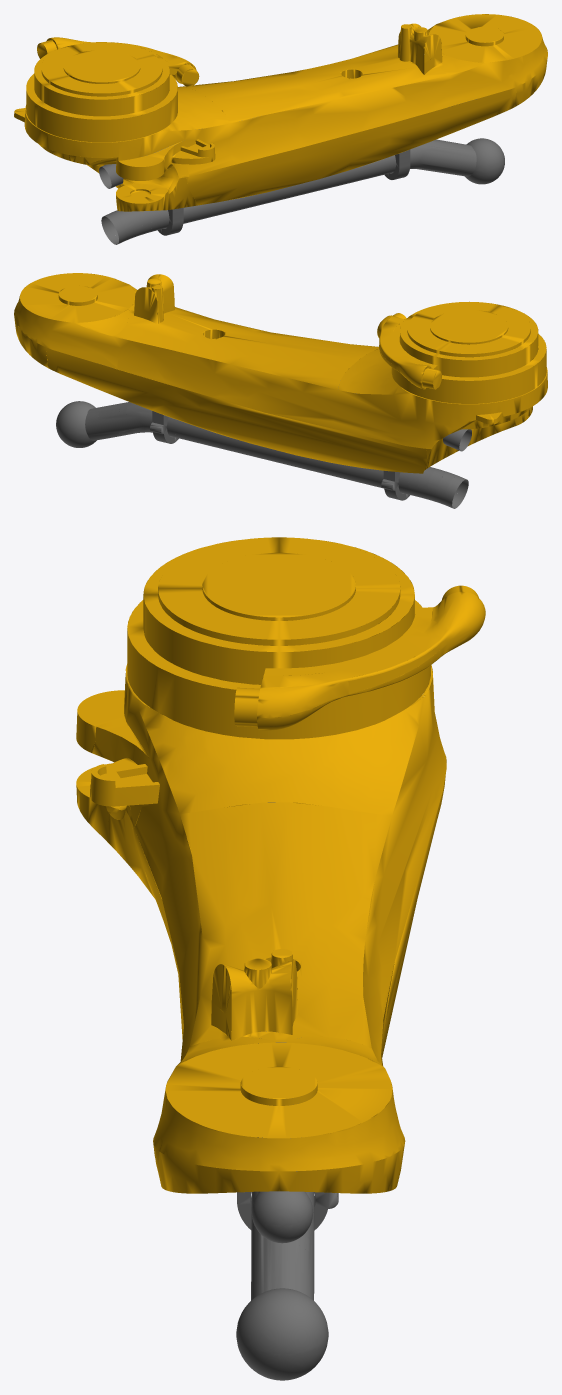
3 renders of one model, top to bottom at view 1: azimuth 30°, elevation 25°; view 2: azimuth 150°, elevation 25°; view 3: azimuth 270°, elevation 25°, orthographic. The views are drawn at different scales.
Visible parts, largest first — view 1: KR270_Link2; view 2: KR270_Link2; view 3: KR270_Link2.
Boxes of the visible parts, left/top/right/bottom form: KR270_Link2: left=14, top=14, right=547, bottom=244; KR270_Link2: left=14, top=273, right=547, bottom=508; KR270_Link2: left=76, top=537, right=485, bottom=1380.
Size of the model in its own units: 1.51 by 0.5324 by 0.6019.
